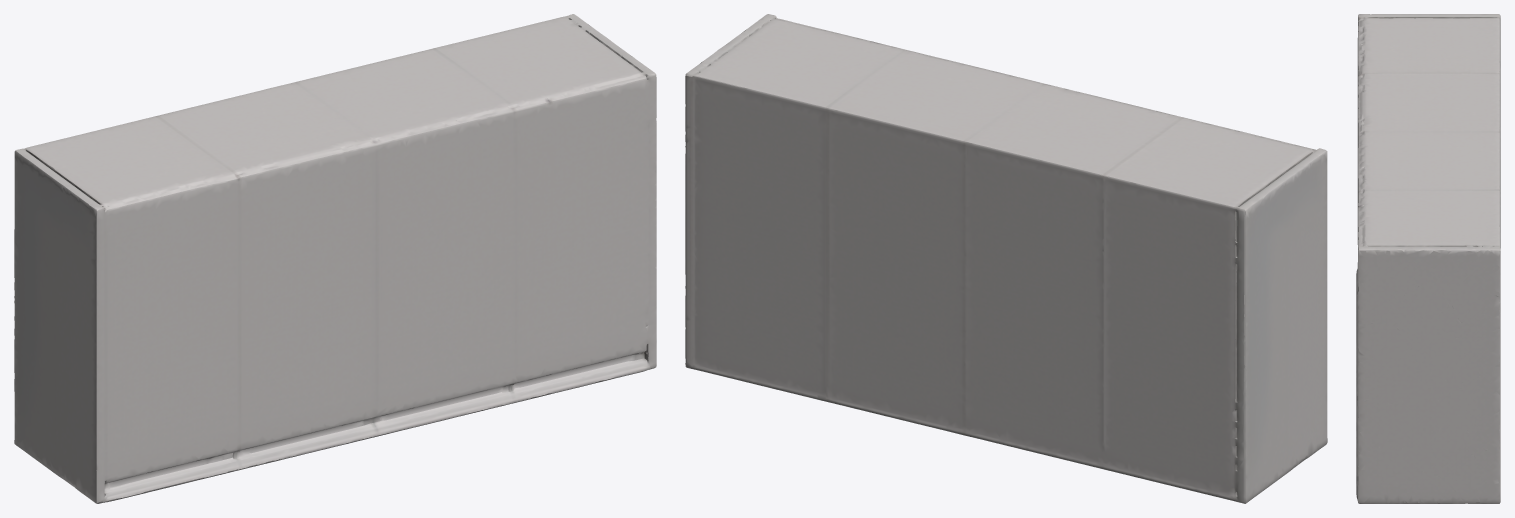
File: item_a48d9b80.glb
3 views of the same model, side by side, from view 1: azimuth 30°, elevation 25°; view 2: azimuth 150°, elevation 25°; view 3: azimuth 270°, elevation 25° (orthographic). The views are drawn at different scales.
Visible parts, largest first — view 1: world; view 2: world; view 3: world.
Boxes of the visible parts, x1,y1,x2,y2 form: world: (14, 14, 656, 503); world: (685, 14, 1327, 503); world: (1356, 14, 1500, 503).
Bounding box in the file's own units: 1.6 × 0.8039 × 0.4135.
Materials: 1 (1 with a texture image).
